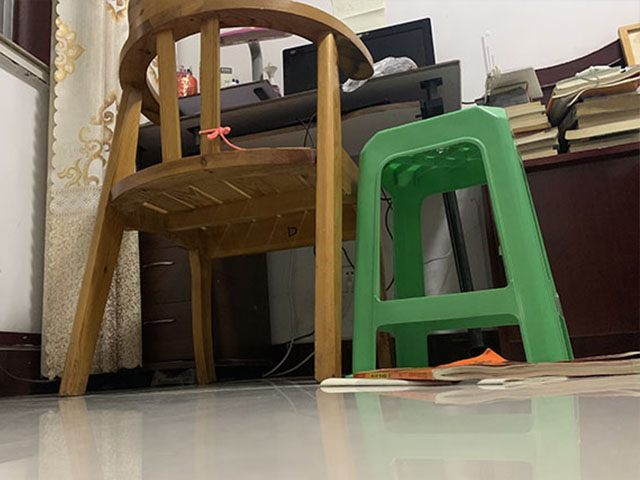book: (351, 354, 638, 382)
curtain: (38, 1, 144, 382)
stool: (55, 1, 378, 397), (355, 102, 568, 364)
wire: (263, 325, 318, 378)
